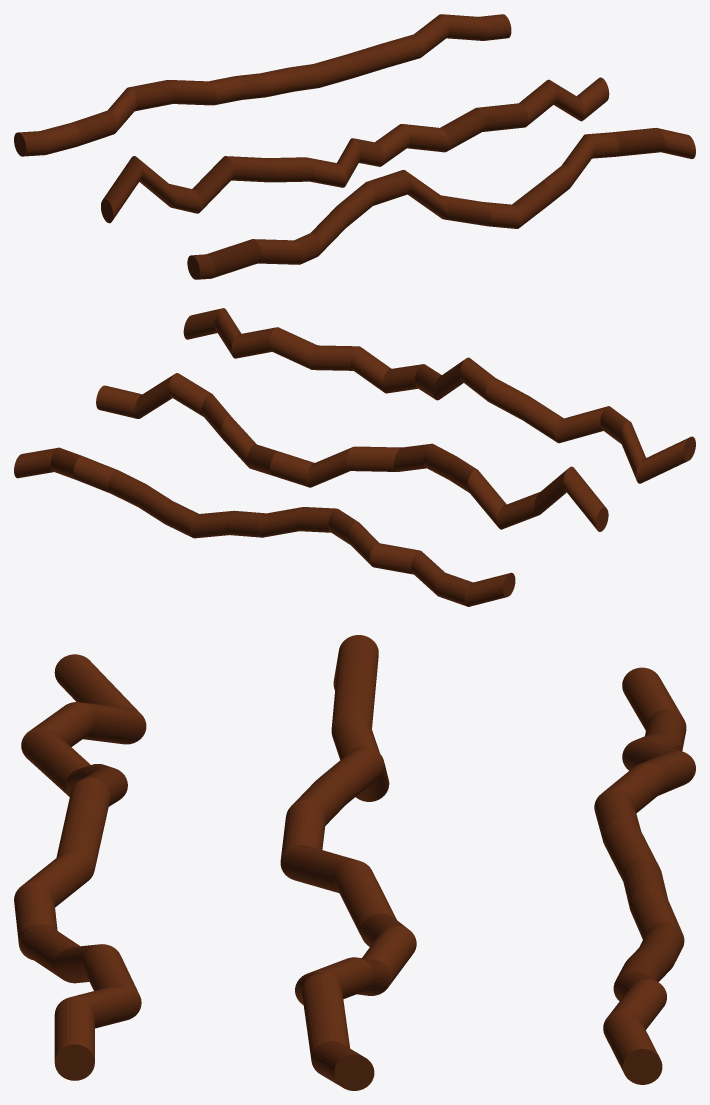
Rendered from Roots Medium.fbx.
3 renders of one model, top to bottom at view 1: azimuth 30°, elevation 25°; view 2: azimuth 150°, elevation 25°; view 3: azimuth 270°, elevation 25°, orthographic. The views are drawn at different scales.
Parts seen in each view (by area): view 1: Roots.014; view 2: Roots.014; view 3: Roots.014.
Part boxes in pixels (left/top/right/bottom): Roots.014: left=14, top=14, right=695, bottom=279; Roots.014: left=14, top=308, right=695, bottom=606; Roots.014: left=14, top=635, right=695, bottom=1090.
Size of the model in its own units: 992 by 146 by 734.
